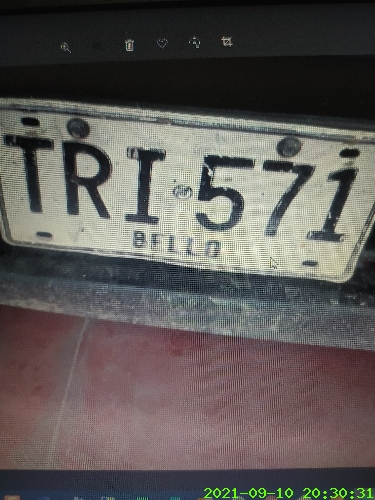number_plate: (1, 101, 375, 276)
